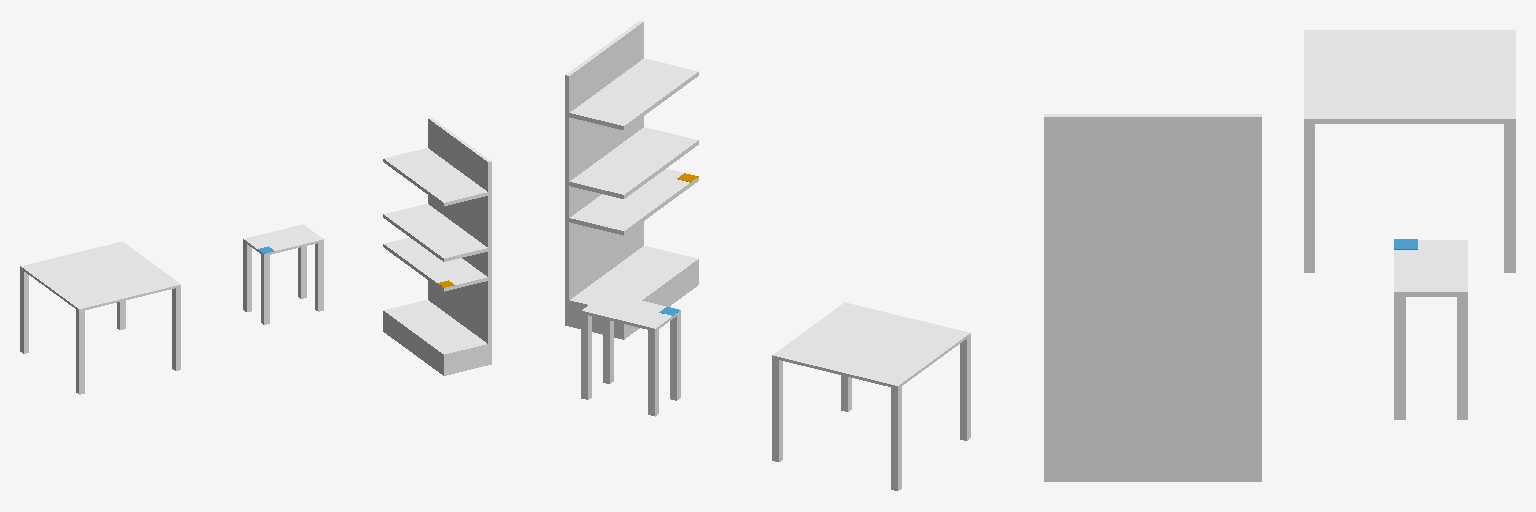
URDF robot description (ceatec_base_scene):
<?xml version="1.0" ?>
<!-- =================================================================================== -->
<!-- |    This document was autogenerated by xacro from ceatec_base_scene.urdf.xacro   | -->
<!-- |    EDITING THIS FILE BY HAND IS NOT RECOMMENDED                                 | -->
<!-- =================================================================================== -->
<robot name="ceatec_base_scene" xmlns:xacro="http://www.ros.org/wiki/xacro">
  <!-- Main workspace -->
  <link name="ground"/>
  <!-- Fetch robot -->
  <!-- <xacro:include filename="$(find fetch_gazebo)/robots/fetch.gazebo.xacro"/> -->
  <!-- <xacro:include filename="$(find fetch_description)/robots/fetch.urdf"/> -->
  <!-- This creates a box with the origin in the bottom corner, fixed to the world link. -->
  <link name="a_table_leg0">
    <!-- w is in x, l is in y, h is in z -->
    <visual>
      <origin rpy="0 0 0" xyz="0.025 0.025 0.29"/>
      <geometry>
        <box size="0.05 0.05 0.58"/>
      </geometry>
      <material name="Grey">
        <color rgba="1.0 1.0 1.0 1.0"/>
      </material>
    </visual>
    <collision>
      <origin rpy="0 0 0" xyz="0.025 0.025 0.29"/>
      <geometry>
        <box size="0.05 0.05 0.58"/>
      </geometry>
    </collision>
    <!-- This is required for Gazebo. -->
    <inertial>
      <mass value="1.0"/>
      <!-- <origin xyz="${width/2} ${length} ${height/2}" rpy="0 0 0"/> -->
      <inertia ixx="0.0" ixy="0.0" ixz="0.0" iyy="0.0" iyz="0.0" izz="0.0"/>
    </inertial>
  </link>
  <gazebo reference="a_table_leg0">
    <material>Gazebo/White</material>
  </gazebo>
  <joint name="a_table_leg0" type="fixed">
    <parent link="ground"/>
    <child link="a_table_leg0"/>
    <origin rpy="0 0 0" xyz="0.35    0.485    0"/>
  </joint>
  <!-- This creates a box with the origin in the bottom corner, fixed to the world link. -->
  <link name="a_table_leg1">
    <!-- w is in x, l is in y, h is in z -->
    <visual>
      <origin rpy="0 0 0" xyz="0.025 0.025 0.29"/>
      <geometry>
        <box size="0.05 0.05 0.58"/>
      </geometry>
      <material name="Grey">
        <color rgba="1.0 1.0 1.0 1.0"/>
      </material>
    </visual>
    <collision>
      <origin rpy="0 0 0" xyz="0.025 0.025 0.29"/>
      <geometry>
        <box size="0.05 0.05 0.58"/>
      </geometry>
    </collision>
    <!-- This is required for Gazebo. -->
    <inertial>
      <mass value="1.0"/>
      <!-- <origin xyz="${width/2} ${length} ${height/2}" rpy="0 0 0"/> -->
      <inertia ixx="0.0" ixy="0.0" ixz="0.0" iyy="0.0" iyz="0.0" izz="0.0"/>
    </inertial>
  </link>
  <gazebo reference="a_table_leg1">
    <material>Gazebo/White</material>
  </gazebo>
  <joint name="a_table_leg1" type="fixed">
    <parent link="a_table_leg0"/>
    <child link="a_table_leg1"/>
    <origin rpy="0 0 0" xyz="0.48 0 0"/>
  </joint>
  <!-- This creates a box with the origin in the bottom corner, fixed to the world link. -->
  <link name="a_table_leg2">
    <!-- w is in x, l is in y, h is in z -->
    <visual>
      <origin rpy="0 0 0" xyz="0.025 0.025 0.29"/>
      <geometry>
        <box size="0.05 0.05 0.58"/>
      </geometry>
      <material name="Grey">
        <color rgba="1.0 1.0 1.0 1.0"/>
      </material>
    </visual>
    <collision>
      <origin rpy="0 0 0" xyz="0.025 0.025 0.29"/>
      <geometry>
        <box size="0.05 0.05 0.58"/>
      </geometry>
    </collision>
    <!-- This is required for Gazebo. -->
    <inertial>
      <mass value="1.0"/>
      <!-- <origin xyz="${width/2} ${length} ${height/2}" rpy="0 0 0"/> -->
      <inertia ixx="0.0" ixy="0.0" ixz="0.0" iyy="0.0" iyz="0.0" izz="0.0"/>
    </inertial>
  </link>
  <gazebo reference="a_table_leg2">
    <material>Gazebo/White</material>
  </gazebo>
  <joint name="a_table_leg2" type="fixed">
    <parent link="a_table_leg0"/>
    <child link="a_table_leg2"/>
    <origin rpy="0 0 0" xyz="0 0.265 0"/>
  </joint>
  <!-- This creates a box with the origin in the bottom corner, fixed to the world link. -->
  <link name="a_table_leg3">
    <!-- w is in x, l is in y, h is in z -->
    <visual>
      <origin rpy="0 0 0" xyz="0.025 0.025 0.29"/>
      <geometry>
        <box size="0.05 0.05 0.58"/>
      </geometry>
      <material name="Grey">
        <color rgba="1.0 1.0 1.0 1.0"/>
      </material>
    </visual>
    <collision>
      <origin rpy="0 0 0" xyz="0.025 0.025 0.29"/>
      <geometry>
        <box size="0.05 0.05 0.58"/>
      </geometry>
    </collision>
    <!-- This is required for Gazebo. -->
    <inertial>
      <mass value="1.0"/>
      <!-- <origin xyz="${width/2} ${length} ${height/2}" rpy="0 0 0"/> -->
      <inertia ixx="0.0" ixy="0.0" ixz="0.0" iyy="0.0" iyz="0.0" izz="0.0"/>
    </inertial>
  </link>
  <gazebo reference="a_table_leg3">
    <material>Gazebo/White</material>
  </gazebo>
  <joint name="a_table_leg3" type="fixed">
    <parent link="a_table_leg0"/>
    <child link="a_table_leg3"/>
    <origin rpy="0 0 0" xyz="0.48      0.265      0"/>
  </joint>
  <!-- This creates a box with the origin in the bottom corner, fixed to the world link. -->
  <link name="a_table_top">
    <!-- w is in x, l is in y, h is in z -->
    <visual>
      <origin rpy="0 0 0" xyz="0.265 0.1575 0.01"/>
      <geometry>
        <box size="0.53 0.315 0.02"/>
      </geometry>
      <material name="Grey">
        <color rgba="1.0 1.0 1.0 1.0"/>
      </material>
    </visual>
    <collision>
      <origin rpy="0 0 0" xyz="0.265 0.1575 0.01"/>
      <geometry>
        <box size="0.53 0.315 0.02"/>
      </geometry>
    </collision>
    <!-- This is required for Gazebo. -->
    <inertial>
      <mass value="1.0"/>
      <!-- <origin xyz="${width/2} ${length} ${height/2}" rpy="0 0 0"/> -->
      <inertia ixx="0.0" ixy="0.0" ixz="0.0" iyy="0.0" iyz="0.0" izz="0.0"/>
    </inertial>
  </link>
  <gazebo reference="a_table_top">
    <material>Gazebo/White</material>
  </gazebo>
  <joint name="a_table_top" type="fixed">
    <parent link="a_table_leg0"/>
    <child link="a_table_top"/>
    <origin rpy="0 0 0" xyz="0 0 0.58"/>
  </joint>
  <joint name="a_table_top_origin" type="fixed">
    <parent link="a_table_top"/>
    <child link="a_table_top_origin"/>
    <origin rpy="0 0 0" xyz="0 0 0.02"/>
  </joint>
  <link name="a_table_top_origin"/>
  <joint name="a_table_top_origin_center" type="fixed">
    <parent link="a_table_top_origin"/>
    <child link="a_table_top_origin_center"/>
    <origin rpy="0 0 0" xyz="0.265 0.1575 0"/>
  </joint>
  <link name="a_table_top_origin_center"/>
  <!-- This creates a box with the origin in the bottom corner, fixed to the world link. -->
  <link name="b_table_leg0">
    <!-- w is in x, l is in y, h is in z -->
    <visual>
      <origin rpy="0 0 0" xyz="0.025 0.025 0.35"/>
      <geometry>
        <box size="0.05 0.05 0.7"/>
      </geometry>
      <material name="Grey">
        <color rgba="1.0 1.0 1.0 1.0"/>
      </material>
    </visual>
    <collision>
      <origin rpy="0 0 0" xyz="0.025 0.025 0.35"/>
      <geometry>
        <box size="0.05 0.05 0.7"/>
      </geometry>
    </collision>
    <!-- This is required for Gazebo. -->
    <inertial>
      <mass value="1.0"/>
      <!-- <origin xyz="${width/2} ${length} ${height/2}" rpy="0 0 0"/> -->
      <inertia ixx="0.0" ixy="0.0" ixz="0.0" iyy="0.0" iyz="0.0" izz="0.0"/>
    </inertial>
  </link>
  <gazebo reference="b_table_leg0">
    <material>Gazebo/White</material>
  </gazebo>
  <joint name="b_table_leg0" type="fixed">
    <parent link="ground"/>
    <child link="b_table_leg0"/>
    <origin rpy="0 0 0" xyz="-1.5    0.1    0"/>
  </joint>
  <!-- This creates a box with the origin in the bottom corner, fixed to the world link. -->
  <link name="b_table_leg1">
    <!-- w is in x, l is in y, h is in z -->
    <visual>
      <origin rpy="0 0 0" xyz="0.025 0.025 0.35"/>
      <geometry>
        <box size="0.05 0.05 0.7"/>
      </geometry>
      <material name="Grey">
        <color rgba="1.0 1.0 1.0 1.0"/>
      </material>
    </visual>
    <collision>
      <origin rpy="0 0 0" xyz="0.025 0.025 0.35"/>
      <geometry>
        <box size="0.05 0.05 0.7"/>
      </geometry>
    </collision>
    <!-- This is required for Gazebo. -->
    <inertial>
      <mass value="1.0"/>
      <!-- <origin xyz="${width/2} ${length} ${height/2}" rpy="0 0 0"/> -->
      <inertia ixx="0.0" ixy="0.0" ixz="0.0" iyy="0.0" iyz="0.0" izz="0.0"/>
    </inertial>
  </link>
  <gazebo reference="b_table_leg1">
    <material>Gazebo/White</material>
  </gazebo>
  <joint name="b_table_leg1" type="fixed">
    <parent link="b_table_leg0"/>
    <child link="b_table_leg1"/>
    <origin rpy="0 0 0" xyz="0.85 0 0"/>
  </joint>
  <!-- This creates a box with the origin in the bottom corner, fixed to the world link. -->
  <link name="b_table_leg2">
    <!-- w is in x, l is in y, h is in z -->
    <visual>
      <origin rpy="0 0 0" xyz="0.025 0.025 0.35"/>
      <geometry>
        <box size="0.05 0.05 0.7"/>
      </geometry>
      <material name="Grey">
        <color rgba="1.0 1.0 1.0 1.0"/>
      </material>
    </visual>
    <collision>
      <origin rpy="0 0 0" xyz="0.025 0.025 0.35"/>
      <geometry>
        <box size="0.05 0.05 0.7"/>
      </geometry>
    </collision>
    <!-- This is required for Gazebo. -->
    <inertial>
      <mass value="1.0"/>
      <!-- <origin xyz="${width/2} ${length} ${height/2}" rpy="0 0 0"/> -->
      <inertia ixx="0.0" ixy="0.0" ixz="0.0" iyy="0.0" iyz="0.0" izz="0.0"/>
    </inertial>
  </link>
  <gazebo reference="b_table_leg2">
    <material>Gazebo/White</material>
  </gazebo>
  <joint name="b_table_leg2" type="fixed">
    <parent link="b_table_leg0"/>
    <child link="b_table_leg2"/>
    <origin rpy="0 0 0" xyz="0 0.85 0"/>
  </joint>
  <!-- This creates a box with the origin in the bottom corner, fixed to the world link. -->
  <link name="b_table_leg3">
    <!-- w is in x, l is in y, h is in z -->
    <visual>
      <origin rpy="0 0 0" xyz="0.025 0.025 0.35"/>
      <geometry>
        <box size="0.05 0.05 0.7"/>
      </geometry>
      <material name="Grey">
        <color rgba="1.0 1.0 1.0 1.0"/>
      </material>
    </visual>
    <collision>
      <origin rpy="0 0 0" xyz="0.025 0.025 0.35"/>
      <geometry>
        <box size="0.05 0.05 0.7"/>
      </geometry>
    </collision>
    <!-- This is required for Gazebo. -->
    <inertial>
      <mass value="1.0"/>
      <!-- <origin xyz="${width/2} ${length} ${height/2}" rpy="0 0 0"/> -->
      <inertia ixx="0.0" ixy="0.0" ixz="0.0" iyy="0.0" iyz="0.0" izz="0.0"/>
    </inertial>
  </link>
  <gazebo reference="b_table_leg3">
    <material>Gazebo/White</material>
  </gazebo>
  <joint name="b_table_leg3" type="fixed">
    <parent link="b_table_leg0"/>
    <child link="b_table_leg3"/>
    <origin rpy="0 0 0" xyz="0.85      0.85      0"/>
  </joint>
  <!-- This creates a box with the origin in the bottom corner, fixed to the world link. -->
  <link name="b_table_top">
    <!-- w is in x, l is in y, h is in z -->
    <visual>
      <origin rpy="0 0 0" xyz="0.45 0.45 0.01"/>
      <geometry>
        <box size="0.9 0.9 0.02"/>
      </geometry>
      <material name="Grey">
        <color rgba="1.0 1.0 1.0 1.0"/>
      </material>
    </visual>
    <collision>
      <origin rpy="0 0 0" xyz="0.45 0.45 0.01"/>
      <geometry>
        <box size="0.9 0.9 0.02"/>
      </geometry>
    </collision>
    <!-- This is required for Gazebo. -->
    <inertial>
      <mass value="1.0"/>
      <!-- <origin xyz="${width/2} ${length} ${height/2}" rpy="0 0 0"/> -->
      <inertia ixx="0.0" ixy="0.0" ixz="0.0" iyy="0.0" iyz="0.0" izz="0.0"/>
    </inertial>
  </link>
  <gazebo reference="b_table_top">
    <material>Gazebo/White</material>
  </gazebo>
  <joint name="b_table_top" type="fixed">
    <parent link="b_table_leg0"/>
    <child link="b_table_top"/>
    <origin rpy="0 0 0" xyz="0 0 0.7"/>
  </joint>
  <joint name="b_table_top_origin" type="fixed">
    <parent link="b_table_top"/>
    <child link="b_table_top_origin"/>
    <origin rpy="0 0 0" xyz="0 0 0.02"/>
  </joint>
  <link name="b_table_top_origin"/>
  <joint name="b_table_top_origin_center" type="fixed">
    <parent link="b_table_top_origin"/>
    <child link="b_table_top_origin_center"/>
    <origin rpy="0 0 0" xyz="0.45 0.45 0"/>
  </joint>
  <link name="b_table_top_origin_center"/>
  <!-- This creates a box with the origin in the bottom corner, fixed to the world link. -->
  <link name="a_cabinet_base">
    <!-- w is in x, l is in y, h is in z -->
    <visual>
      <origin rpy="0 0 0" xyz="0.4625 0.195 0.09"/>
      <geometry>
        <box size="0.925 0.39 0.18"/>
      </geometry>
      <material name="Grey">
        <color rgba="1.0 1.0 1.0 1.0"/>
      </material>
    </visual>
    <collision>
      <origin rpy="0 0 0" xyz="0.4625 0.195 0.09"/>
      <geometry>
        <box size="0.925 0.39 0.18"/>
      </geometry>
    </collision>
    <!-- This is required for Gazebo. -->
    <inertial>
      <mass value="1.0"/>
      <!-- <origin xyz="${width/2} ${length} ${height/2}" rpy="0 0 0"/> -->
      <inertia ixx="0.0" ixy="0.0" ixz="0.0" iyy="0.0" iyz="0.0" izz="0.0"/>
    </inertial>
  </link>
  <gazebo reference="a_cabinet_base">
    <material>Gazebo/White</material>
  </gazebo>
  <joint name="a_cabinet_base" type="fixed">
    <parent link="ground"/>
    <child link="a_cabinet_base"/>
    <origin rpy="0 0 -1.57079632679" xyz="1.08    -0.075    0"/>
  </joint>
  <!-- This creates a box with the origin in the bottom corner, fixed to the world link. -->
  <link name="a_cabinet_back">
    <!-- w is in x, l is in y, h is in z -->
    <visual>
      <origin rpy="0 0 0" xyz="0.4625 0.015 0.8555"/>
      <geometry>
        <box size="0.925 0.03 1.711"/>
      </geometry>
      <material name="Grey">
        <color rgba="1.0 1.0 1.0 1.0"/>
      </material>
    </visual>
    <collision>
      <origin rpy="0 0 0" xyz="0.4625 0.015 0.8555"/>
      <geometry>
        <box size="0.925 0.03 1.711"/>
      </geometry>
    </collision>
    <!-- This is required for Gazebo. -->
    <inertial>
      <mass value="1.0"/>
      <!-- <origin xyz="${width/2} ${length} ${height/2}" rpy="0 0 0"/> -->
      <inertia ixx="0.0" ixy="0.0" ixz="0.0" iyy="0.0" iyz="0.0" izz="0.0"/>
    </inertial>
  </link>
  <gazebo reference="a_cabinet_back">
    <material>Gazebo/White</material>
  </gazebo>
  <joint name="a_cabinet_back" type="fixed">
    <parent link="a_cabinet_base"/>
    <child link="a_cabinet_back"/>
    <origin rpy="0 0 0" xyz="0 0.39 0"/>
  </joint>
  <!-- This creates a box with the origin in the bottom corner, fixed to the world link. -->
  <link name="a_cabinet_shelf1">
    <!-- w is in x, l is in y, h is in z -->
    <visual>
      <origin rpy="0 0 0" xyz="0.4625 0.195 0.015"/>
      <geometry>
        <box size="0.925 0.39 0.03"/>
      </geometry>
      <material name="Grey">
        <color rgba="1.0 1.0 1.0 1.0"/>
      </material>
    </visual>
    <collision>
      <origin rpy="0 0 0" xyz="0.4625 0.195 0.015"/>
      <geometry>
        <box size="0.925 0.39 0.03"/>
      </geometry>
    </collision>
    <!-- This is required for Gazebo. -->
    <inertial>
      <mass value="1.0"/>
      <!-- <origin xyz="${width/2} ${length} ${height/2}" rpy="0 0 0"/> -->
      <inertia ixx="0.0" ixy="0.0" ixz="0.0" iyy="0.0" iyz="0.0" izz="0.0"/>
    </inertial>
  </link>
  <gazebo reference="a_cabinet_shelf1">
    <material>Gazebo/White</material>
  </gazebo>
  <joint name="a_cabinet_shelf1" type="fixed">
    <parent link="a_cabinet_base"/>
    <child link="a_cabinet_shelf1"/>
    <origin rpy="0 0 0" xyz="0 0 0.712"/>
  </joint>
  <!-- This creates a box with the origin in the bottom corner, fixed to the world link. -->
  <link name="a_cabinet_shelf2">
    <!-- w is in x, l is in y, h is in z -->
    <visual>
      <origin rpy="0 0 0" xyz="0.4625 0.195 0.015"/>
      <geometry>
        <box size="0.925 0.39 0.03"/>
      </geometry>
      <material name="Grey">
        <color rgba="1.0 1.0 1.0 1.0"/>
      </material>
    </visual>
    <collision>
      <origin rpy="0 0 0" xyz="0.4625 0.195 0.015"/>
      <geometry>
        <box size="0.925 0.39 0.03"/>
      </geometry>
    </collision>
    <!-- This is required for Gazebo. -->
    <inertial>
      <mass value="1.0"/>
      <!-- <origin xyz="${width/2} ${length} ${height/2}" rpy="0 0 0"/> -->
      <inertia ixx="0.0" ixy="0.0" ixz="0.0" iyy="0.0" iyz="0.0" izz="0.0"/>
    </inertial>
  </link>
  <gazebo reference="a_cabinet_shelf2">
    <material>Gazebo/White</material>
  </gazebo>
  <joint name="a_cabinet_shelf2" type="fixed">
    <parent link="a_cabinet_base"/>
    <child link="a_cabinet_shelf2"/>
    <origin rpy="0 0 0" xyz="0 0 0.96"/>
  </joint>
  <!-- This creates a box with the origin in the bottom corner, fixed to the world link. -->
  <link name="a_cabinet_shelf3">
    <!-- w is in x, l is in y, h is in z -->
    <visual>
      <origin rpy="0 0 0" xyz="0.4625 0.195 0.015"/>
      <geometry>
        <box size="0.925 0.39 0.03"/>
      </geometry>
      <material name="Grey">
        <color rgba="1.0 1.0 1.0 1.0"/>
      </material>
    </visual>
    <collision>
      <origin rpy="0 0 0" xyz="0.4625 0.195 0.015"/>
      <geometry>
        <box size="0.925 0.39 0.03"/>
      </geometry>
    </collision>
    <!-- This is required for Gazebo. -->
    <inertial>
      <mass value="1.0"/>
      <!-- <origin xyz="${width/2} ${length} ${height/2}" rpy="0 0 0"/> -->
      <inertia ixx="0.0" ixy="0.0" ixz="0.0" iyy="0.0" iyz="0.0" izz="0.0"/>
    </inertial>
  </link>
  <gazebo reference="a_cabinet_shelf3">
    <material>Gazebo/White</material>
  </gazebo>
  <joint name="a_cabinet_shelf3" type="fixed">
    <parent link="a_cabinet_base"/>
    <child link="a_cabinet_shelf3"/>
    <origin rpy="0 0 0" xyz="0 0 1.43"/>
  </joint>
  <joint name="a_cabinet_base_origin" type="fixed">
    <parent link="a_cabinet_base"/>
    <child link="a_cabinet_base_origin"/>
    <origin rpy="0 0 0" xyz="0 0 0.18"/>
  </joint>
  <link name="a_cabinet_base_origin"/>
  <joint name="a_cabinet_base_origin_center" type="fixed">
    <parent link="a_cabinet_base_origin"/>
    <child link="a_cabinet_base_origin_center"/>
    <origin rpy="0 0 0" xyz="0.4625 0.195 0"/>
  </joint>
  <link name="a_cabinet_base_origin_center"/>
  <joint name="a_cabinet_shelf1_origin" type="fixed">
    <parent link="a_cabinet_shelf1"/>
    <child link="a_cabinet_shelf1_origin"/>
    <origin rpy="0 0 0" xyz="0 0 0.03"/>
  </joint>
  <link name="a_cabinet_shelf1_origin"/>
  <joint name="a_cabinet_shelf1_origin_center" type="fixed">
    <parent link="a_cabinet_shelf1_origin"/>
    <child link="a_cabinet_shelf1_origin_center"/>
    <origin rpy="0 0 0" xyz="0.4625 0.195 0"/>
  </joint>
  <link name="a_cabinet_shelf1_origin_center"/>
  <joint name="a_cabinet_ar_marker_joint" type="fixed">
    <parent link="a_cabinet_shelf1_origin"/>
    <child link="a_cabinet_ar_marker"/>
    <origin rpy="0 0 0" xyz="0.875 0.05 0.001"/>
  </joint>
  <link name="a_cabinet_ar_marker">
    <visual name="a_cabinet_ar_marker_visual">
      <origin rpy="0 0 3.14159265359" xyz="0 0 -0.0005"/>
      <geometry>
        <box size="0.1 0.1 0.001"/>
      </geometry>
      <!--<material name="orange" />-->
    </visual>
    <collision name="a_cabinet_ar_marker_collision">
      <origin rpy="0 0 3.14159265359" xyz="0 0 -0.0005"/>
      <geometry>
        <box size="0.1 0.1 0.001"/>
      </geometry>
    </collision>
  </link>
  <!-- For Gazebo, material of AR marker is defined in
         gazebo/media/material. You also need to export
         gazebo_media_path in package.xml. -->
  <gazebo reference="a_cabinet_ar_marker">
    <material>Aruco/marker17</material>
  </gazebo>
  <joint name="a_table_ar_marker_joint" type="fixed">
    <parent link="a_table_top_origin"/>
    <child link="a_table_ar_marker"/>
    <origin rpy="0 0 0" xyz="0.05 0.05 0.001"/>
  </joint>
  <link name="a_table_ar_marker">
    <visual name="a_table_ar_marker_visual">
      <origin rpy="0 0 3.14159265359" xyz="0 0 -0.0005"/>
      <geometry>
        <box size="0.1 0.1 0.001"/>
      </geometry>
      <!--<material name="orange" />-->
    </visual>
    <collision name="a_table_ar_marker_collision">
      <origin rpy="0 0 3.14159265359" xyz="0 0 -0.0005"/>
      <geometry>
        <box size="0.1 0.1 0.001"/>
      </geometry>
    </collision>
  </link>
  <!-- For Gazebo, material of AR marker is defined in
         gazebo/media/material. You also need to export
         gazebo_media_path in package.xml. -->
  <gazebo reference="a_table_ar_marker">
    <material>Aruco/marker26</material>
  </gazebo>
  <!-- Trays -->
  <!-- <xacro:include filename="$(find -->
  <!-- 			   aist_scene_description)/urdf/tray.urdf.xacro"/> -->
  <!-- <xacro:tray prefix="a_" -->
  <!-- 	      width="${tray_width}" -->
  <!-- 	      length="${tray_length}" -->
  <!-- 	      height="${tray_height}" -->
  <!-- 	      parent="a_table_top_origin"> -->
  <!--   <origin xyz="${(a_table_width  - tray_width)/2} -->
  <!-- 		 ${(a_table_length - tray_length)/2} -->
  <!-- 		 0" -->
  <!-- 	    rpy="0 0 0"/> -->
  <!-- </xacro:tray> -->
  <!-- <xacro:tray prefix="b_" -->
  <!-- 	      width="${tray_width}" -->
  <!-- 	      length="${tray_length}" -->
  <!-- 	      height="${tray_height}" -->
  <!-- 	      parent="b_table_top_origin"> -->
  <!--   <origin xyz="${(b_table_width/2 - tray_width)/2} 0.03 0" rpy="0 0 0"/> -->
  <!-- </xacro:tray> -->
  <!-- I would like to remove the "world" link definition, but
       apparently it is necessary for Gazebo -->
  <link name="world"/>
  <joint name="world_ground_joint" type="fixed">
    <parent link="world"/>
    <child link="ground"/>
    <origin rpy="0 0 0" xyz="0 0 0"/>
  </joint>
</robot>

--- Facts derived from the render (not from the file) ---
Views: 3 orthographic renders of the robot side by side, from view 1: azimuth 30°, elevation 25°; view 2: azimuth 150°, elevation 25°; view 3: azimuth 270°, elevation 25°.
Model ceatec_base_scene with 27 links and 26 joints (26 fixed), rooted at world, posed every joint at zero.
Visible links, largest first — view 1: a_cabinet_back, b_table_top, a_cabinet_base, a_cabinet_shelf2, a_cabinet_shelf3, a_cabinet_shelf1, a_table_top, b_table_leg0, b_table_leg1, b_table_leg2, a_table_leg0, a_table_leg1 (+1 smaller); view 2: a_cabinet_back, b_table_top, a_cabinet_base, a_cabinet_shelf2, a_cabinet_shelf3, a_cabinet_shelf1, a_table_top, b_table_leg2, b_table_leg3, b_table_leg0, a_table_leg2, a_table_leg3 (+2 smaller); view 3: a_cabinet_back, b_table_top, a_table_top, b_table_leg3, b_table_leg1, a_table_leg1, a_table_leg3.
Boxes of the visible links, x1,y1,x2,y2 form: a_cabinet_back: [428, 117, 491, 364]; b_table_top: [20, 241, 180, 311]; a_cabinet_base: [383, 300, 487, 375]; a_cabinet_shelf2: [383, 204, 487, 261]; a_cabinet_shelf3: [383, 148, 487, 205]; a_cabinet_shelf1: [383, 237, 487, 291]; a_table_top: [243, 224, 323, 255]; b_table_leg0: [76, 310, 84, 394]; b_table_leg1: [172, 287, 180, 370]; b_table_leg2: [20, 269, 28, 353]; a_table_leg0: [261, 255, 269, 324]; a_table_leg1: [315, 242, 323, 311]; a_cabinet_back: [565, 21, 643, 325]; b_table_top: [772, 302, 970, 388]; a_cabinet_base: [569, 246, 698, 339]; a_cabinet_shelf2: [569, 127, 698, 198]; a_cabinet_shelf3: [569, 58, 698, 129]; a_cabinet_shelf1: [569, 169, 698, 235]; a_table_top: [581, 292, 680, 331]; b_table_leg2: [891, 387, 901, 490]; b_table_leg3: [772, 358, 782, 461]; b_table_leg0: [960, 336, 970, 440]; a_table_leg2: [648, 329, 658, 416]; a_table_leg3: [581, 314, 591, 399]; a_cabinet_back: [1044, 114, 1261, 481]; b_table_top: [1304, 30, 1515, 123]; a_table_top: [1394, 240, 1467, 296]; b_table_leg3: [1504, 124, 1515, 272]; b_table_leg1: [1304, 124, 1314, 272]; a_table_leg1: [1394, 297, 1405, 419]; a_table_leg3: [1457, 297, 1467, 419].
Size in the robot's own frame: 3 by 2 by 1.71 metres.
Geometry: primitives only (box / cylinder / sphere), no mesh files.